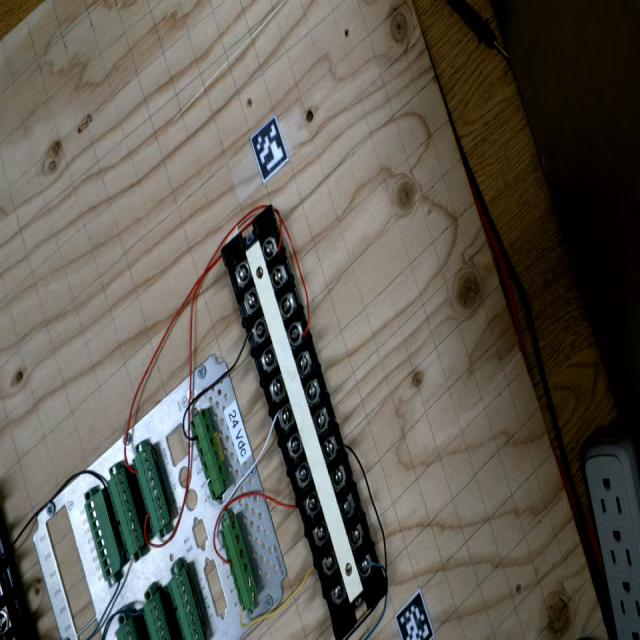Flathead_Block: (213, 204, 397, 640)
Terminal_1: (217, 516, 262, 612), (186, 408, 232, 500)
Terminal_2: (104, 468, 147, 559), (130, 444, 173, 534), (165, 568, 204, 640), (139, 593, 171, 640), (112, 617, 139, 640)
